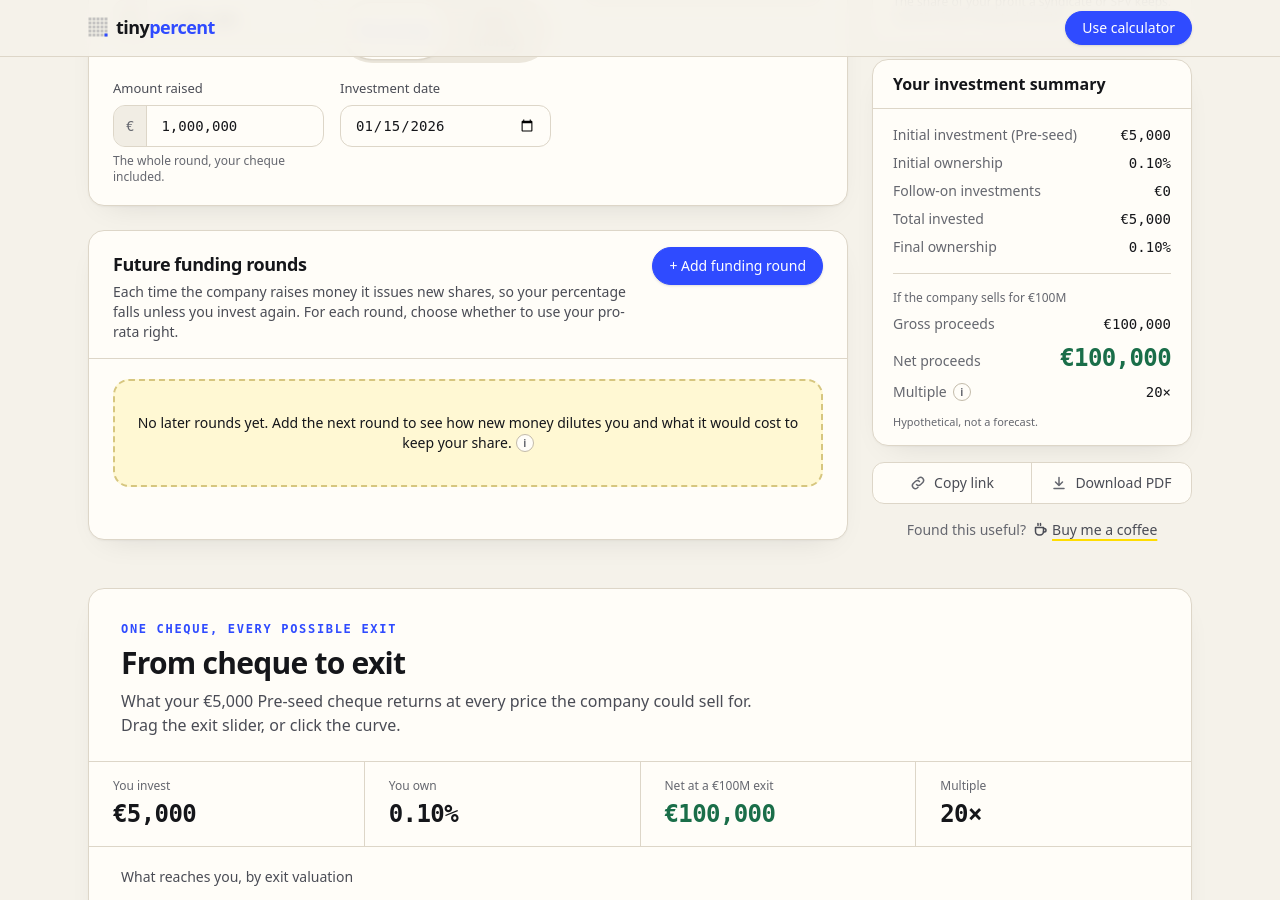
download PDF › says so when the PDF cannot be made
The width and height of the screenshot is (1280, 900).
(page scrolled)
Click the button "Download PDF" at {"x": 1112, "y": 482}, box [1032,462,1191,502]
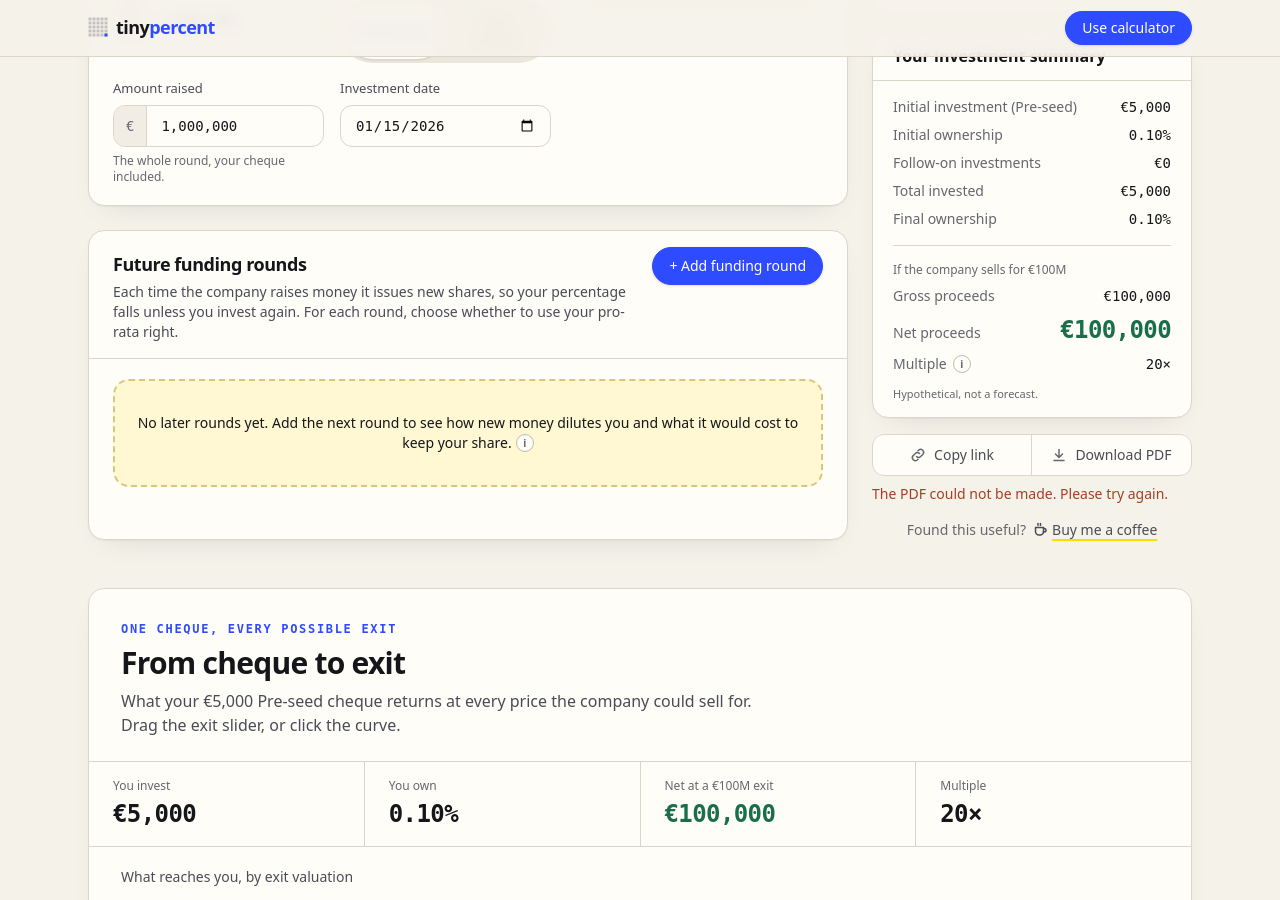
Expected: the message reads "The PDF could not be made. Please try again.", [872,484,1168,502]
